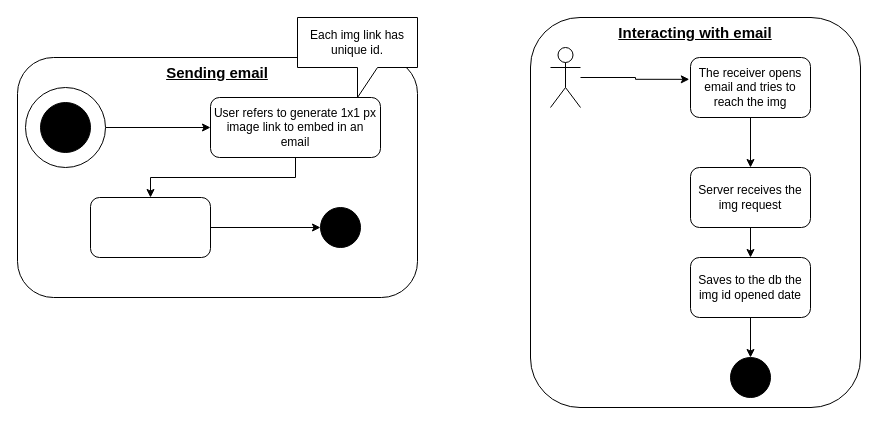
Image size: 878x425. Some labels were removed from this diagram. The centre of each missing label's shape, as x and y in pixels:
Actor: the point at 565,77
Sends email with the embedded link: the point at 150,227
